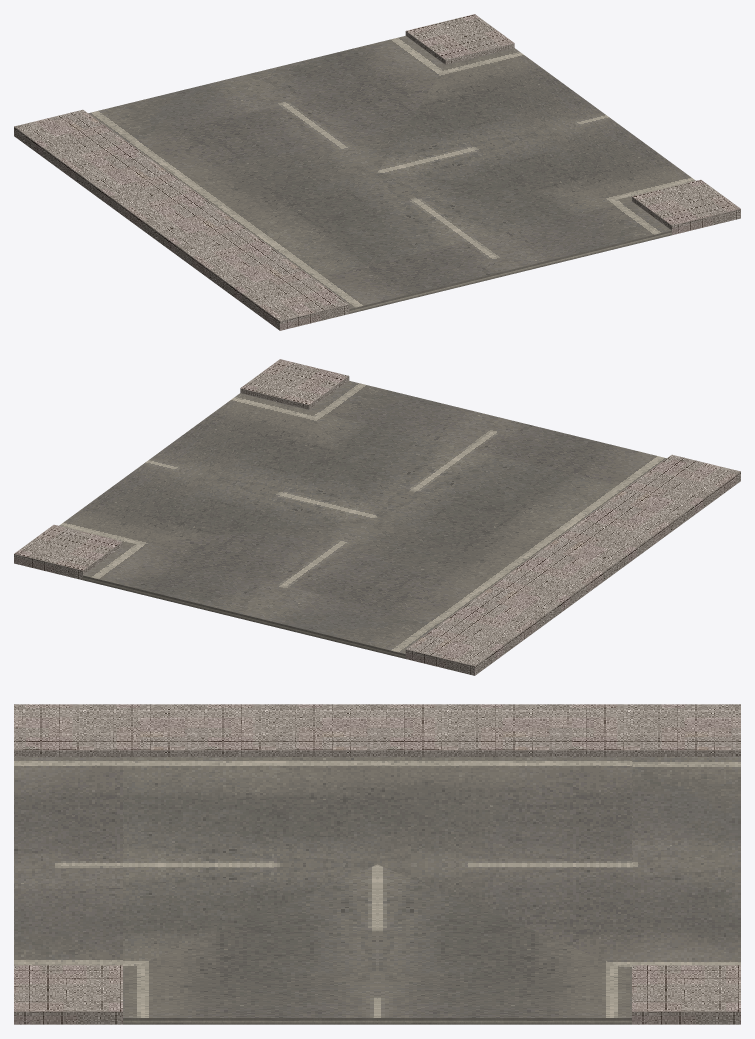
The model's file is road_4_Tjunction.glb.
3 renders of one model, top to bottom at view 1: azimuth 30°, elevation 25°; view 2: azimuth 150°, elevation 25°; view 3: azimuth 270°, elevation 25°, orthographic. The views are drawn at different scales.
Parts seen in each view (by area): view 1: road_4_Tjunction; view 2: road_4_Tjunction; view 3: road_4_Tjunction.
Part boxes in pixels (left/top/right/bottom): road_4_Tjunction: left=14, top=14, right=740, bottom=330; road_4_Tjunction: left=14, top=359, right=740, bottom=675; road_4_Tjunction: left=14, top=704, right=740, bottom=1024.
Bounding box in the file's own units: 16 × 0.32 × 16.
Materials: 2 (2 with a texture image).
